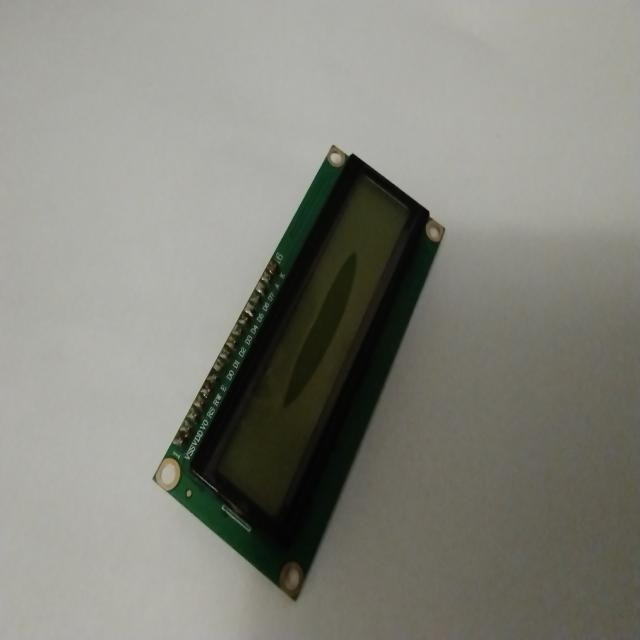lcd: (152, 143, 446, 602)
